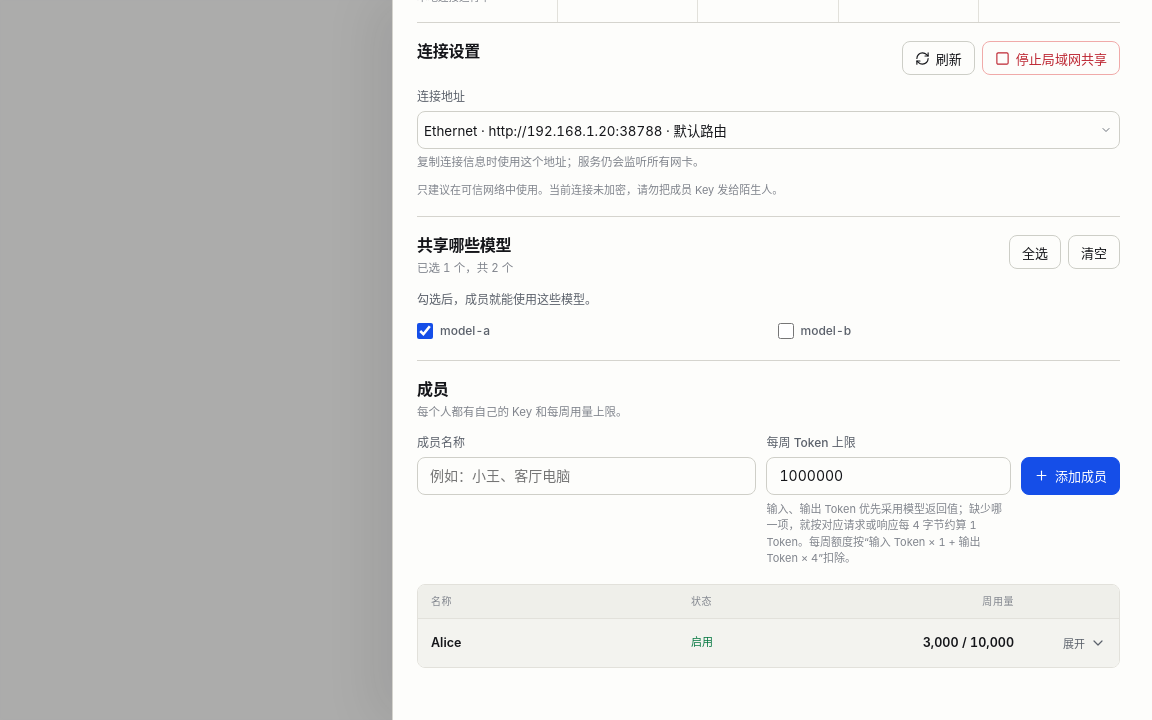
it: LanSharingDrawer › confirms a usage reset and shows success even when usage becomes zero
The image size is (1152, 720).
(page scrolled)
Expected: the text "Alice" is shown, [431,635,462,650]
Click the button "Alice 启用 3,000 / 10,000 展开" at (446, 643), box [418,619,1119,667]
(page scrolled)
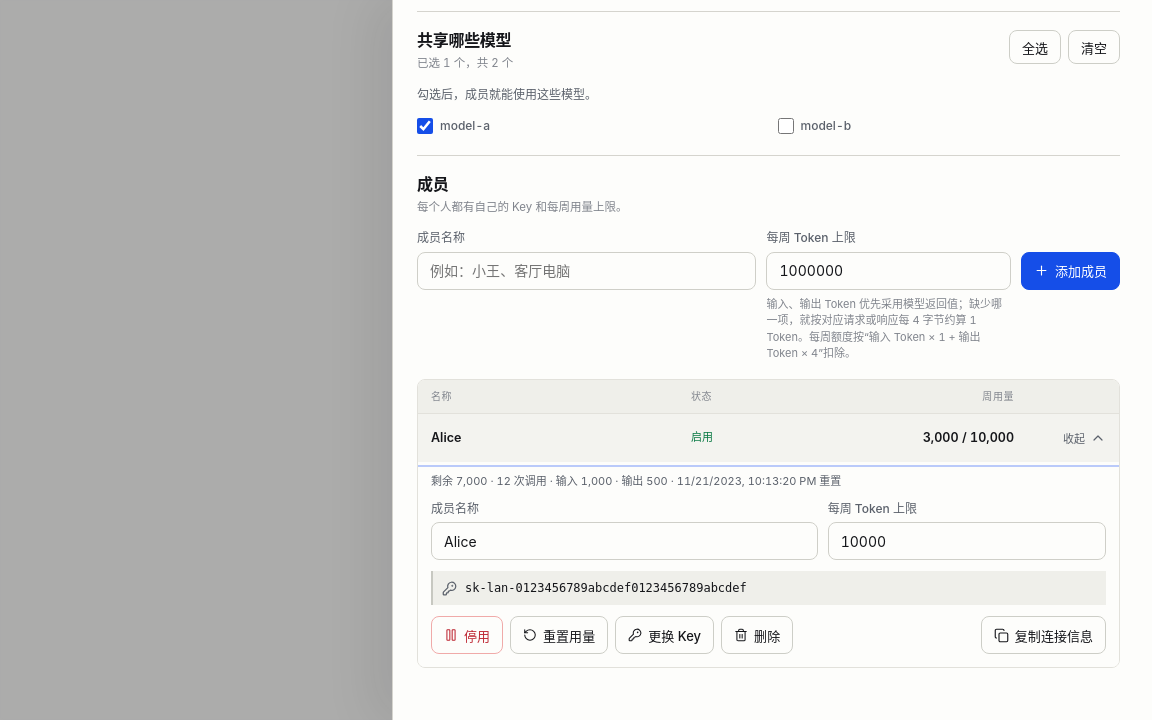
Click the button "重置用量" at (559, 636), box [510,616,608,654]
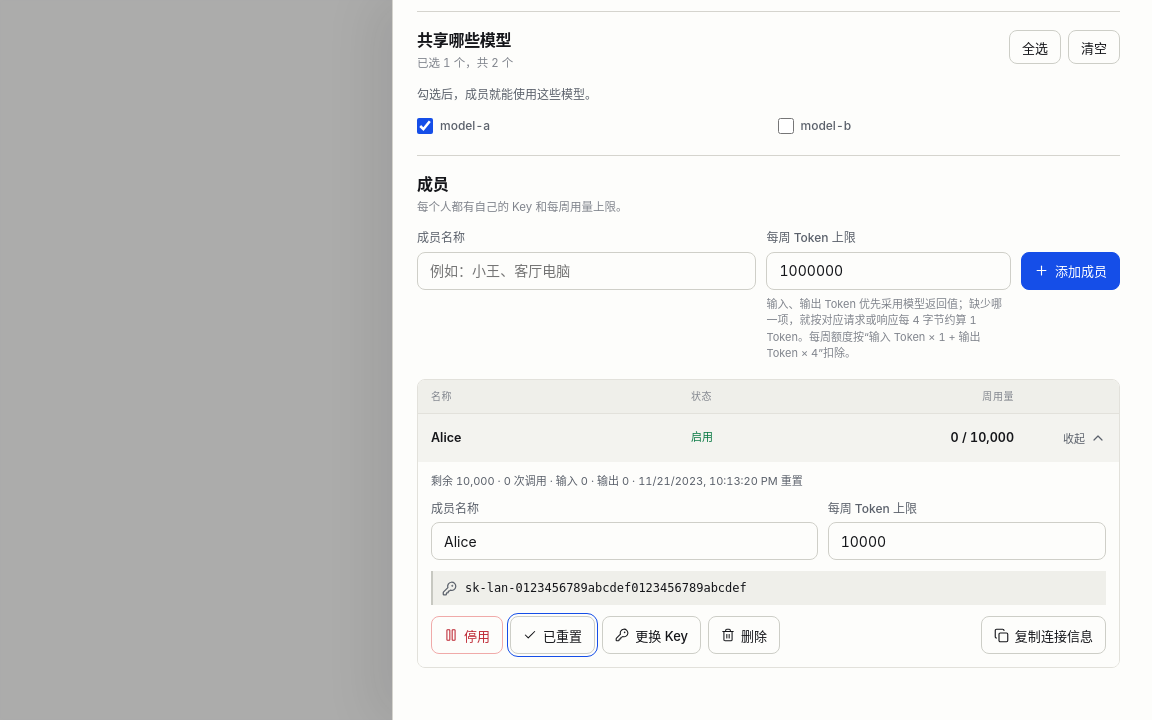
Expected: the text "0 / 10,000" is shown, [950,430,1014,445]
Now the button "已重置" is shown, box [510,616,595,654]
